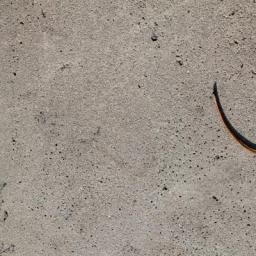FOD: (210, 81, 256, 159)
